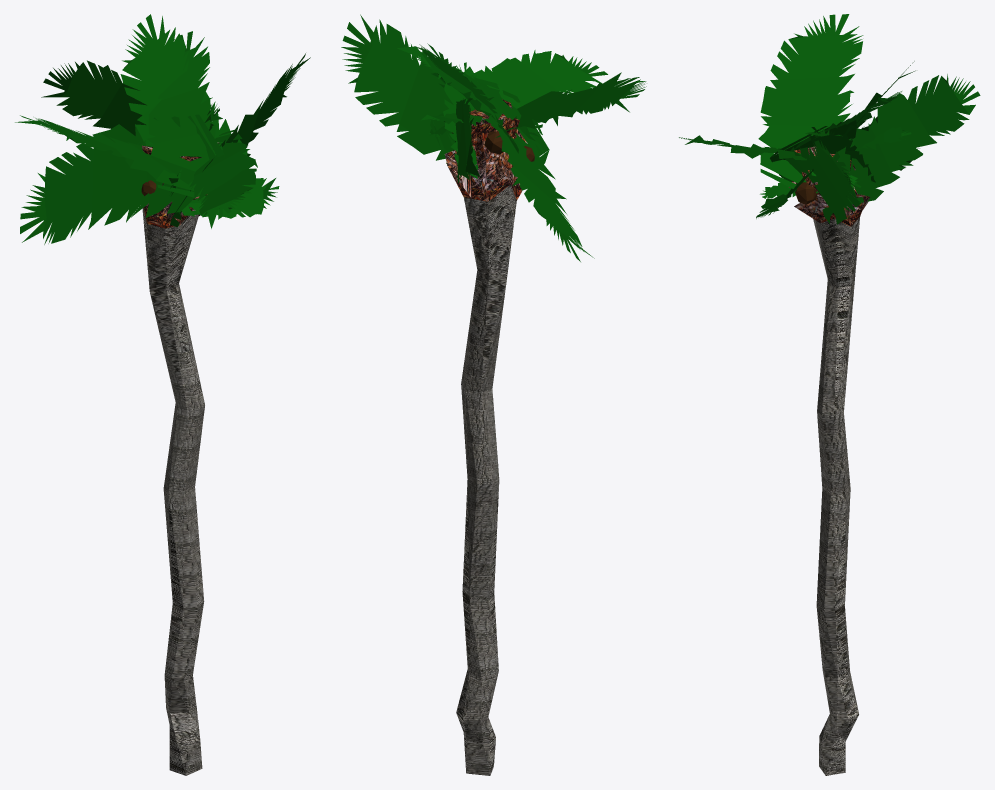
File: PalmTree.glb
The picture shows the model from 3 angles, left to right: view 1: azimuth 30°, elevation 25°; view 2: azimuth 150°, elevation 25°; view 3: azimuth 270°, elevation 25°; orthographic projection. The views are drawn at different scales.
Visible parts, largest first — view 1: Branches, Trunk; view 2: Branches, Trunk; view 3: Branches, Trunk.
Part boxes in pixels (<box>): Branches: <box>15,14,310,244</box>; Trunk: <box>142,142,219,775</box>; Branches: <box>341,14,646,261</box>; Trunk: <box>444,99,527,775</box>; Branches: <box>679,14,980,224</box>; Trunk: <box>789,146,870,775</box>.
Size of what is drawn, in the model's own units: 5.36 by 13.08 by 5.03.
4 materials, 2 textured.
